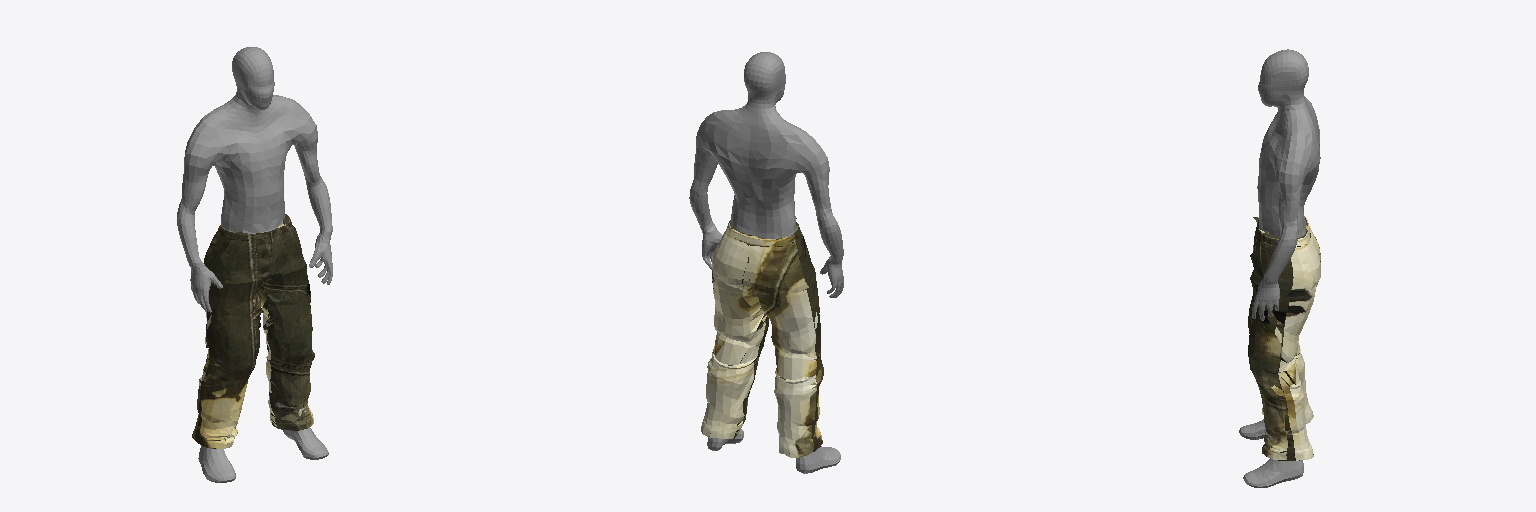
3 renders of one model, left to right at view 1: azimuth 30°, elevation 25°; view 2: azimuth 150°, elevation 25°; view 3: azimuth 270°, elevation 25°, orthographic.
Parts seen in each view (by area): view 1: Human_BaseMesh_Mesh, Object60.004; view 2: Object60.004, Human_BaseMesh_Mesh; view 3: Human_BaseMesh_Mesh, Object60.004.
Part boxes in pixels (bbox=[...]): Human_BaseMesh_Mesh: bbox=[177, 47, 332, 482]; Object60.004: bbox=[192, 214, 314, 448]; Object60.004: bbox=[701, 218, 823, 457]; Human_BaseMesh_Mesh: bbox=[689, 52, 843, 473]; Human_BaseMesh_Mesh: bbox=[1239, 49, 1320, 487]; Object60.004: bbox=[1248, 217, 1320, 460].
Size of the model in its own units: 6.14 by 16.22 by 2.95.
3 materials, 1 textured.